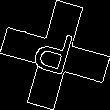P_S: (30, 26, 80, 84)
